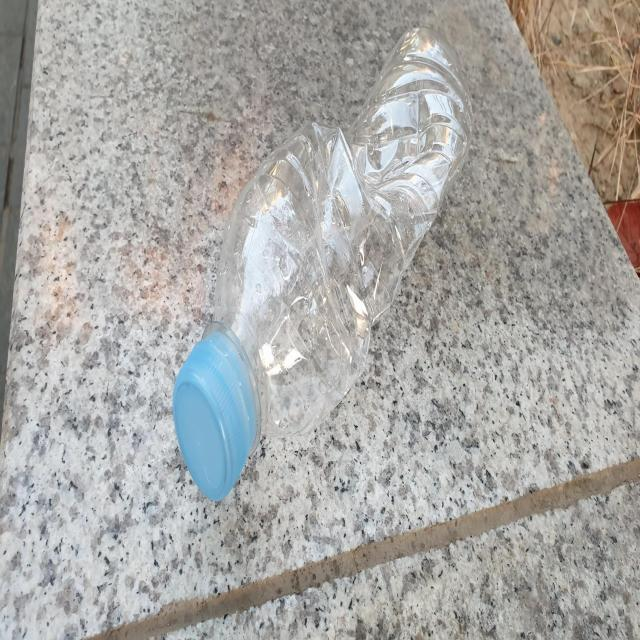plastic: (172, 25, 473, 500)
